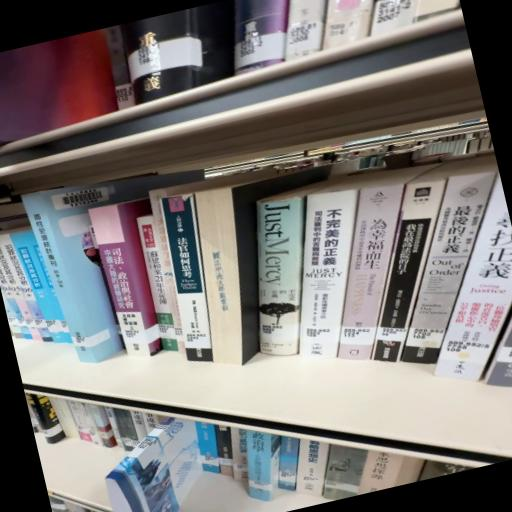backward: (196, 171, 318, 366)
book: (226, 189, 341, 364), (150, 190, 232, 370)
